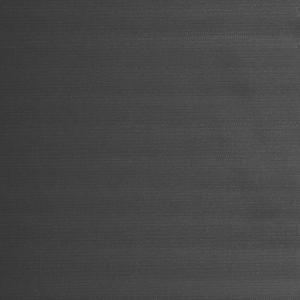Wrinkle: (1, 162, 300, 300), (57, 11, 300, 49)
